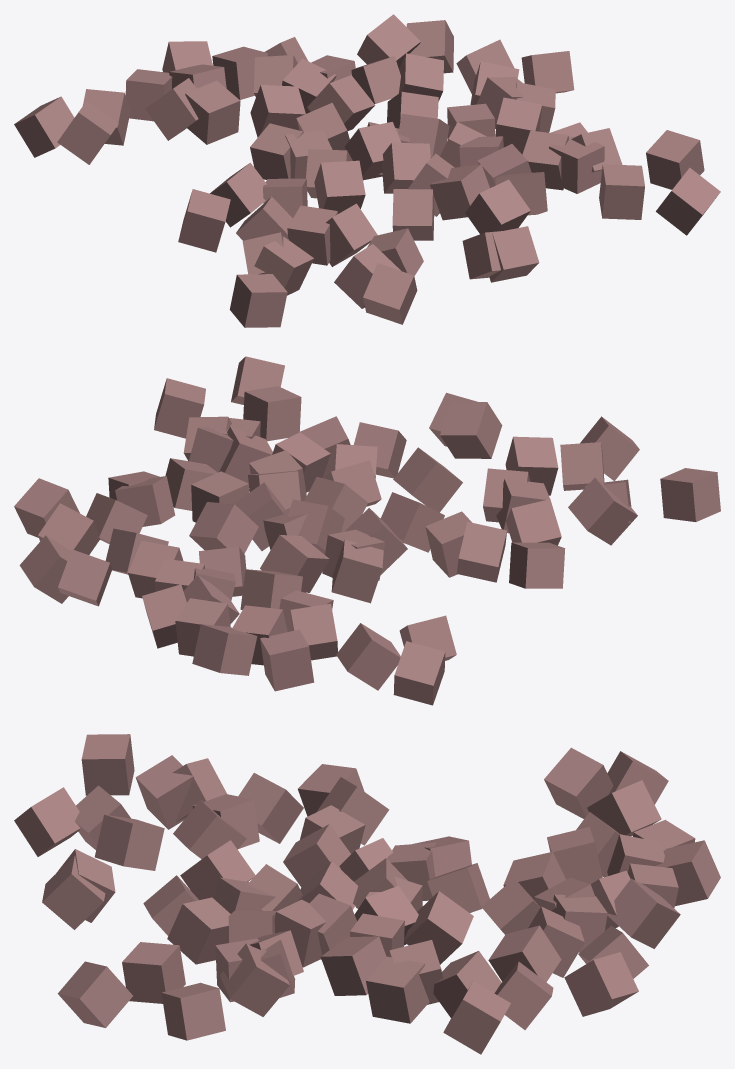
Rendered from ham_cubes.fbx.
3 views of the same model, one above another, from view 1: azimuth 30°, elevation 25°; view 2: azimuth 150°, elevation 25°; view 3: azimuth 270°, elevation 25° (orthographic). The views are drawn at different scales.
Visible parts, largest first — view 1: pCubeShape1_MASH1_Instancer_2, pCubeShape1_MASH1_Instancer_14, pCubeShape1_MASH1_Instancer_63, pCubeShape1_MASH1_Instancer_54, pCubeShape1_MASH1_Instancer_20, pCubeShape1_MASH1_Instancer_37, pCubeShape1_MASH1_Instancer_3, pCubeShape1_MASH1_Instancer_58, pCubeShape1_MASH1_Instancer_21, pCubeShape1_MASH1_Instancer_40, pCubeShape1_MASH1_Instancer_1, pCubeShape1_MASH1_Instancer_4 (+51 smaller); view 2: pCubeShape1_MASH1_Instancer_33, pCubeShape1_MASH1_Instancer_2, pCubeShape1_MASH1_Instancer_16, pCubeShape1_MASH1_Instancer_0, pCubeShape1_MASH1_Instancer_6, pCubeShape1_MASH1_Instancer_9, pCubeShape1_MASH1_Instancer_1, pCubeShape1_MASH1_Instancer_54, pCubeShape1_MASH1_Instancer_3, pCubeShape1_MASH1_Instancer_43, pCubeShape1_MASH1_Instancer_30, pCubeShape1_MASH1_Instancer_10 (+51 smaller); view 3: pCubeShape1_MASH1_Instancer_47, pCubeShape1_MASH1_Instancer_58, pCubeShape1_MASH1_Instancer_54, pCubeShape1_MASH1_Instancer_49, pCubeShape1_MASH1_Instancer_4, pCubeShape1_MASH1_Instancer_63, pCubeShape1_MASH1_Instancer_23, pCubeShape1_MASH1_Instancer_46, pCubeShape1_MASH1_Instancer_2, pCubeShape1_MASH1_Instancer_31, pCubeShape1_MASH1_Instancer_52, pCubeShape1_MASH1_Instancer_62 (+53 smaller).
Part boxes in pixels (x1,y1,x2,y2): pCubeShape1_MASH1_Instancer_2: (229, 274, 287, 327); pCubeShape1_MASH1_Instancer_14: (185, 80, 240, 144); pCubeShape1_MASH1_Instancer_63: (646, 130, 704, 189); pCubeShape1_MASH1_Instancer_54: (599, 164, 644, 219); pCubeShape1_MASH1_Instancer_20: (363, 263, 417, 324); pCubeShape1_MASH1_Instancer_37: (465, 179, 530, 234); pCubeShape1_MASH1_Instancer_3: (178, 189, 230, 252); pCubeShape1_MASH1_Instancer_58: (656, 168, 720, 235); pCubeShape1_MASH1_Instancer_21: (314, 160, 365, 213); pCubeShape1_MASH1_Instancer_40: (430, 164, 489, 220); pCubeShape1_MASH1_Instancer_1: (14, 96, 74, 157); pCubeShape1_MASH1_Instancer_4: (57, 101, 118, 164); pCubeShape1_MASH1_Instancer_33: (440, 401, 502, 458); pCubeShape1_MASH1_Instancer_2: (660, 468, 720, 521); pCubeShape1_MASH1_Instancer_16: (192, 624, 257, 675); pCubeShape1_MASH1_Instancer_0: (336, 623, 400, 690); pCubeShape1_MASH1_Instancer_6: (260, 629, 314, 691); pCubeShape1_MASH1_Instancer_9: (568, 477, 637, 545); pCubeShape1_MASH1_Instancer_1: (393, 641, 445, 705); pCubeShape1_MASH1_Instancer_54: (243, 386, 301, 441); pCubeShape1_MASH1_Instancer_3: (509, 542, 565, 588); pCubeShape1_MASH1_Instancer_43: (189, 502, 258, 553); pCubeShape1_MASH1_Instancer_30: (393, 447, 462, 512); pCubeShape1_MASH1_Instancer_10: (331, 539, 383, 603); pCubeShape1_MASH1_Instancer_47: (366, 956, 429, 1023); pCubeShape1_MASH1_Instancer_58: (57, 961, 132, 1027); pCubeShape1_MASH1_Instancer_54: (122, 942, 185, 1003); pCubeShape1_MASH1_Instancer_49: (564, 952, 638, 1016); pCubeShape1_MASH1_Instancer_4: (544, 747, 613, 818); pCubeShape1_MASH1_Instancer_63: (161, 982, 225, 1040); pCubeShape1_MASH1_Instancer_23: (94, 814, 164, 870); pCubeShape1_MASH1_Instancer_46: (167, 897, 230, 964); pCubeShape1_MASH1_Instancer_2: (81, 734, 134, 795); pCubeShape1_MASH1_Instancer_31: (607, 878, 680, 948); pCubeShape1_MASH1_Instancer_52: (320, 936, 386, 995); pCubeShape1_MASH1_Instancer_62: (219, 943, 289, 1016).
Bounding box in the file's own units: 14.69 × 1.82 × 16.09.
